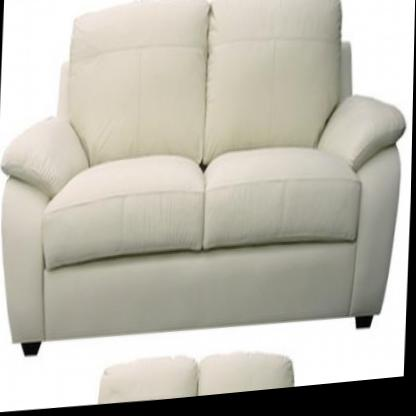Sofa: (0, 0, 410, 369)
